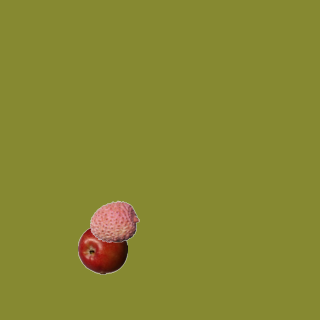Apple Braeburn: (77, 224, 127, 274)
Lychee: (89, 196, 139, 246)
